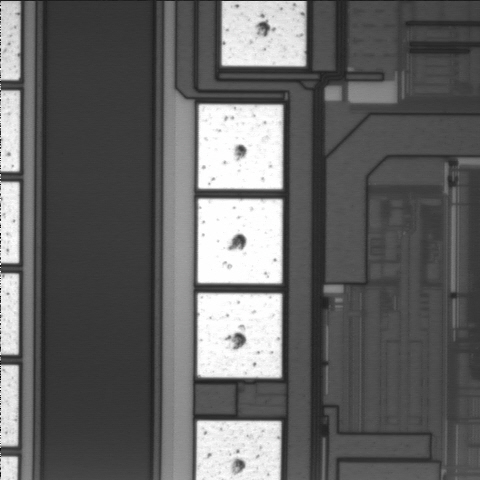pad: (198, 104, 283, 189), (197, 199, 282, 284), (197, 293, 282, 378)
